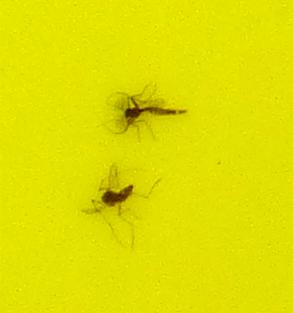Nematocera: (119, 100, 193, 131), (100, 176, 132, 213)
